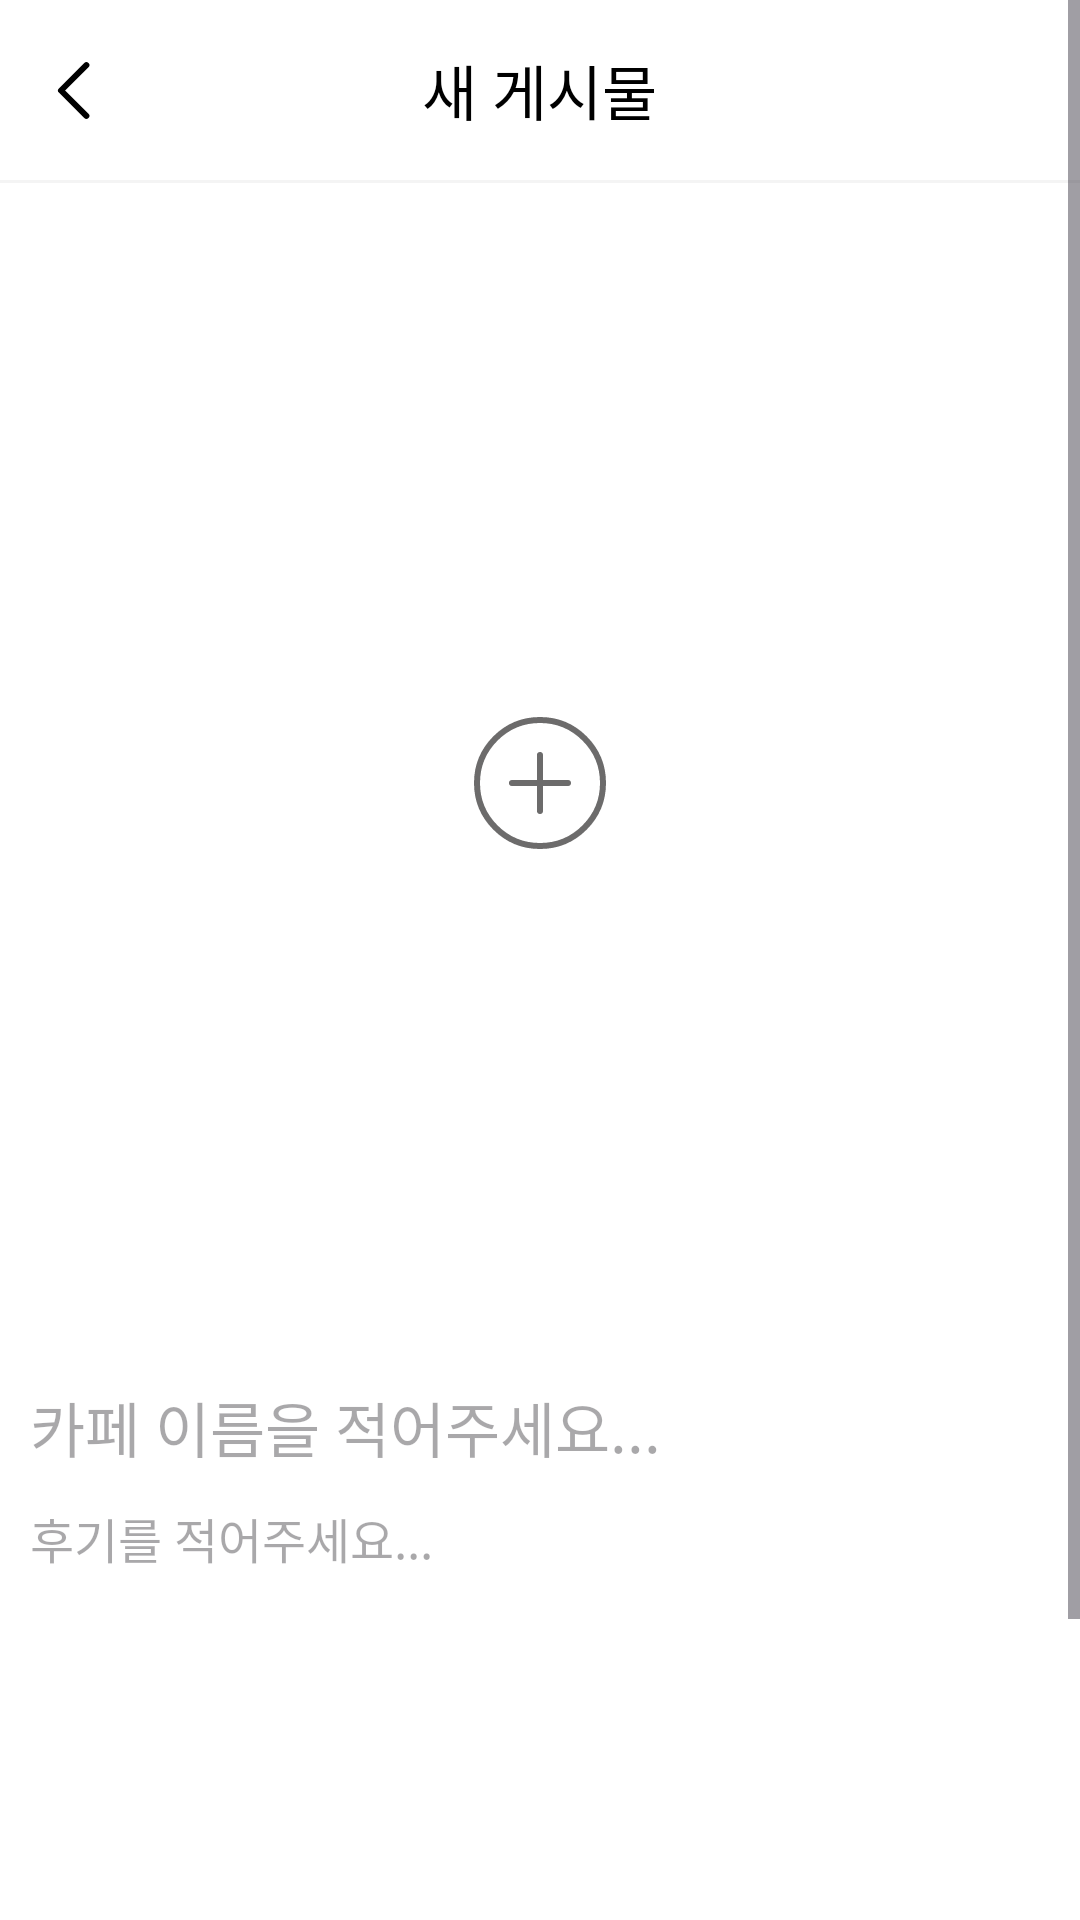

Screen size 1080*1920. Icon name, then its box in pixels as (x1, y1, x2, y2):
뒤로가기 버튼: (57, 62, 90, 119)
